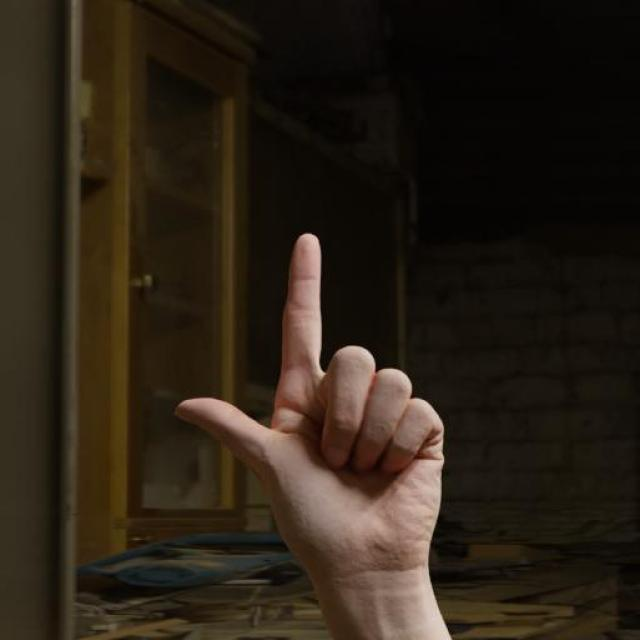L: (168, 229, 448, 572)
